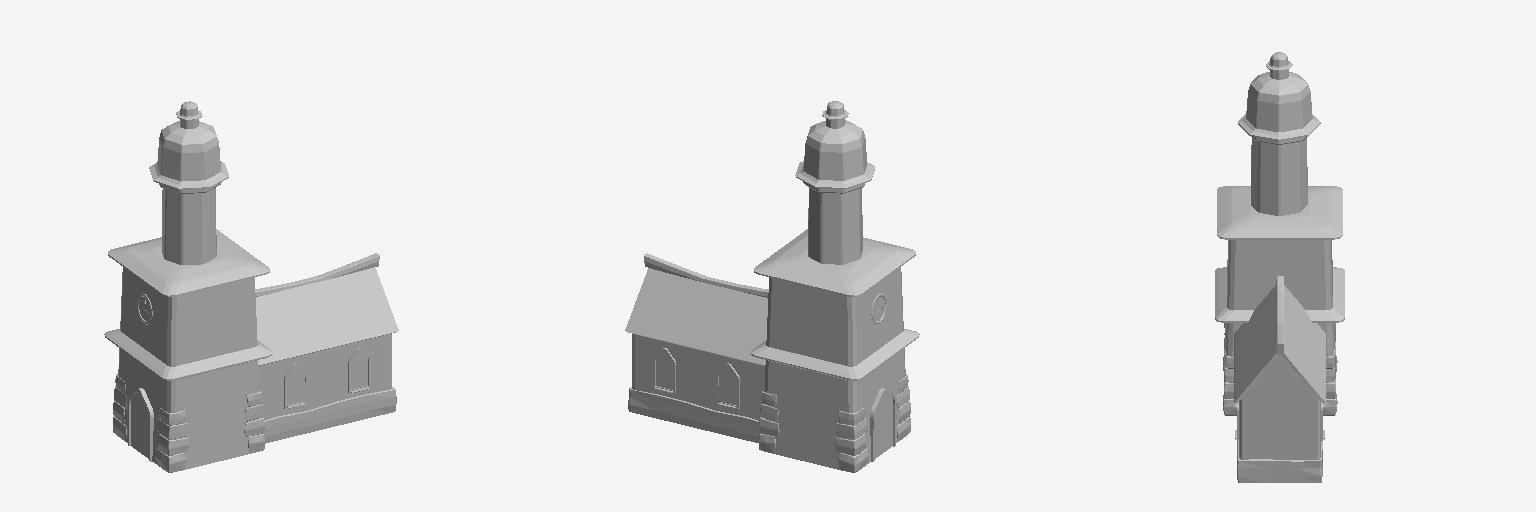
Rendered from SM_cottageB.obj.
3 views of the same model, side by side, from view 1: azimuth 30°, elevation 25°; view 2: azimuth 150°, elevation 25°; view 3: azimuth 270°, elevation 25° (orthographic).
Visible parts, largest first — view 1: tour_base, Cube, base_maison, toit_tour_haut, toit_tour_tout_en_haut, tour_haute, pierre, base_pierre, toit_tour_bas, fenetre_vitre, toit_poutre, porte_planche (+2 smaller); view 2: tour_base, Cube, base_maison, toit_tour_haut, toit_tour_tout_en_haut, tour_haute, pierre, base_pierre, toit_tour_bas, fenetre_vitre, toit_poutre, porte_planche (+2 smaller); view 3: tour_base, base_maison, Cube, toit_tour_haut, toit_tour_tout_en_haut, tour_haute, base_pierre, toit_tour_bas, pierre, toit_poutre.
Boxes of the visible parts, <box> form: tour_base: <box>118,267,259,471</box>; Cube: <box>256,267,398,365</box>; base_maison: <box>259,334,391,420</box>; toit_tour_haut: <box>108,229,269,296</box>; toit_tour_tout_en_haut: <box>149,101,228,189</box>; tour_haute: <box>159,182,221,264</box>; pierre: <box>113,374,264,472</box>; base_pierre: <box>263,387,396,443</box>; toit_tour_bas: <box>104,329,272,380</box>; fenetre_vitre: <box>287,351,367,405</box>; toit_poutre: <box>255,253,379,296</box>; porte_planche: <box>131,393,148,458</box>; tour_base: <box>764,267,905,471</box>; Cube: <box>625,268,767,365</box>; base_maison: <box>632,334,764,420</box>; toit_tour_haut: <box>754,229,915,296</box>; toit_tour_tout_en_haut: <box>795,101,874,188</box>; tour_haute: <box>803,182,864,264</box>; pierre: <box>759,374,910,472</box>; base_pierre: <box>628,387,760,442</box>; toit_tour_bas: <box>751,329,919,380</box>; fenetre_vitre: <box>656,351,736,405</box>; toit_poutre: <box>644,253,768,297</box>; porte_planche: <box>875,393,892,458</box>; tour_base: <box>1224,240,1335,382</box>; base_maison: <box>1239,354,1320,459</box>; Cube: <box>1234,285,1325,403</box>; toit_tour_haut: <box>1217,186,1342,239</box>; toit_tour_tout_en_haut: <box>1238,52,1320,140</box>; tour_haute: <box>1251,136,1307,215</box>; base_pierre: <box>1237,441,1322,482</box>; toit_tour_bas: <box>1215,267,1344,322</box>; pierre: <box>1223,323,1337,415</box>; toit_poutre: <box>1276,276,1283,353</box>.
Bounding box in the file's own units: 14.91 × 19.74 × 6.84.